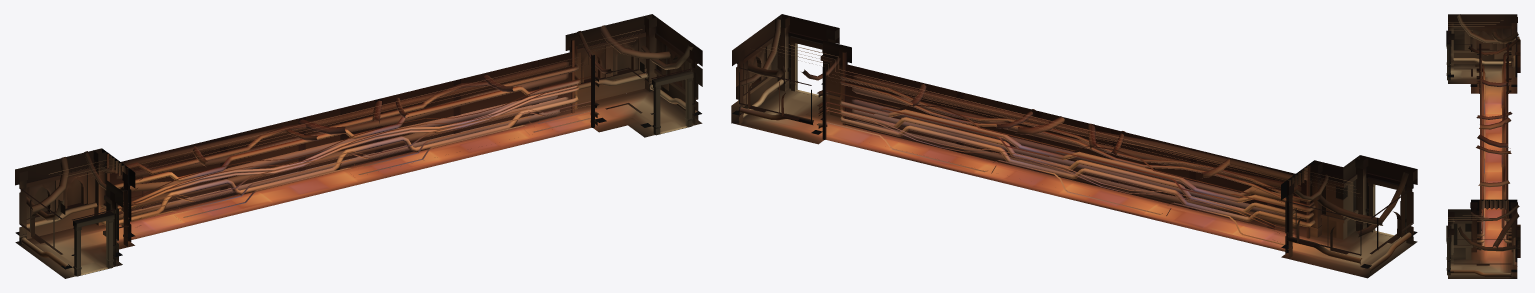
Rendered from 05Hall.gltf.
3 renders of one model, left to right at view 1: azimuth 30°, elevation 25°; view 2: azimuth 150°, elevation 25°; view 3: azimuth 270°, elevation 25°, orthographic. The views are drawn at different scales.
Visible parts, largest first — view 1: stg031_o30_Mesh_0006, stg031_o30_Mesh_0000, stg031_o30_Mesh_0031, stg031_o30_Mesh_0028, stg031_o30_Mesh_0002, stg031_o30_Mesh_0021, stg031_o30_Mesh_0010, stg031_o30_Mesh_0034, stg031_o30_Mesh_0020, stg031_o30_Mesh_0019, stg031_o30_Mesh_0013, stg031_o30_Mesh_0017 (+5 smaller); view 2: stg031_o30_Mesh_0006, stg031_o30_Mesh_0000, stg031_o30_Mesh_0031, stg031_o30_Mesh_0028, stg031_o30_Mesh_0002, stg031_o30_Mesh_0021, stg031_o30_Mesh_0010, stg031_o30_Mesh_0020, stg031_o30_Mesh_0034, stg031_o30_Mesh_0011, stg031_o30_Mesh_0017, stg031_o30_Mesh_0033 (+4 smaller); view 3: stg031_o30_Mesh_0006, stg031_o30_Mesh_0028, stg031_o30_Mesh_0000, stg031_o30_Mesh_0002, stg031_o30_Mesh_0031, stg031_o30_Mesh_0021, stg031_o30_Mesh_0034, stg031_o30_Mesh_0010, stg031_o30_Mesh_0013, stg031_o30_Mesh_0011, stg031_o30_Mesh_0020, stg031_o30_Mesh_0017 (+6 smaller).
Boxes of the visible parts, x1,y1,x2,y2 form: stg031_o30_Mesh_0006: [49, 29, 642, 227]; stg031_o30_Mesh_0000: [52, 52, 678, 272]; stg031_o30_Mesh_0031: [15, 14, 702, 274]; stg031_o30_Mesh_0028: [20, 25, 697, 272]; stg031_o30_Mesh_0002: [15, 16, 701, 269]; stg031_o30_Mesh_0021: [15, 18, 702, 267]; stg031_o30_Mesh_0010: [26, 36, 690, 275]; stg031_o30_Mesh_0034: [24, 90, 697, 277]; stg031_o30_Mesh_0020: [20, 26, 694, 256]; stg031_o30_Mesh_0019: [26, 72, 698, 256]; stg031_o30_Mesh_0013: [30, 38, 698, 240]; stg031_o30_Mesh_0017: [19, 32, 697, 220]; stg031_o30_Mesh_0006: [761, 44, 1359, 249]; stg031_o30_Mesh_0000: [767, 64, 1391, 263]; stg031_o30_Mesh_0031: [732, 14, 1417, 270]; stg031_o30_Mesh_0028: [738, 19, 1413, 272]; stg031_o30_Mesh_0002: [732, 16, 1417, 268]; stg031_o30_Mesh_0021: [732, 20, 1417, 231]; stg031_o30_Mesh_0010: [743, 43, 1401, 256]; stg031_o30_Mesh_0020: [739, 26, 1412, 248]; stg031_o30_Mesh_0034: [738, 88, 1409, 275]; stg031_o30_Mesh_0011: [731, 42, 1352, 239]; stg031_o30_Mesh_0017: [736, 31, 1413, 219]; stg031_o30_Mesh_0033: [732, 89, 1417, 278]; stg031_o30_Mesh_0006: [1448, 22, 1512, 248]; stg031_o30_Mesh_0028: [1450, 14, 1519, 276]; stg031_o30_Mesh_0000: [1450, 72, 1507, 271]; stg031_o30_Mesh_0002: [1448, 17, 1520, 274]; stg031_o30_Mesh_0031: [1448, 14, 1517, 275]; stg031_o30_Mesh_0021: [1446, 17, 1511, 269]; stg031_o30_Mesh_0034: [1448, 65, 1513, 277]; stg031_o30_Mesh_0010: [1460, 28, 1517, 269]; stg031_o30_Mesh_0013: [1453, 28, 1511, 244]; stg031_o30_Mesh_0011: [1453, 28, 1511, 259]; stg031_o30_Mesh_0020: [1448, 23, 1516, 255]; stg031_o30_Mesh_0017: [1448, 25, 1517, 239].
Size of the model in its own units: 111 by 12.35 by 16.04.
